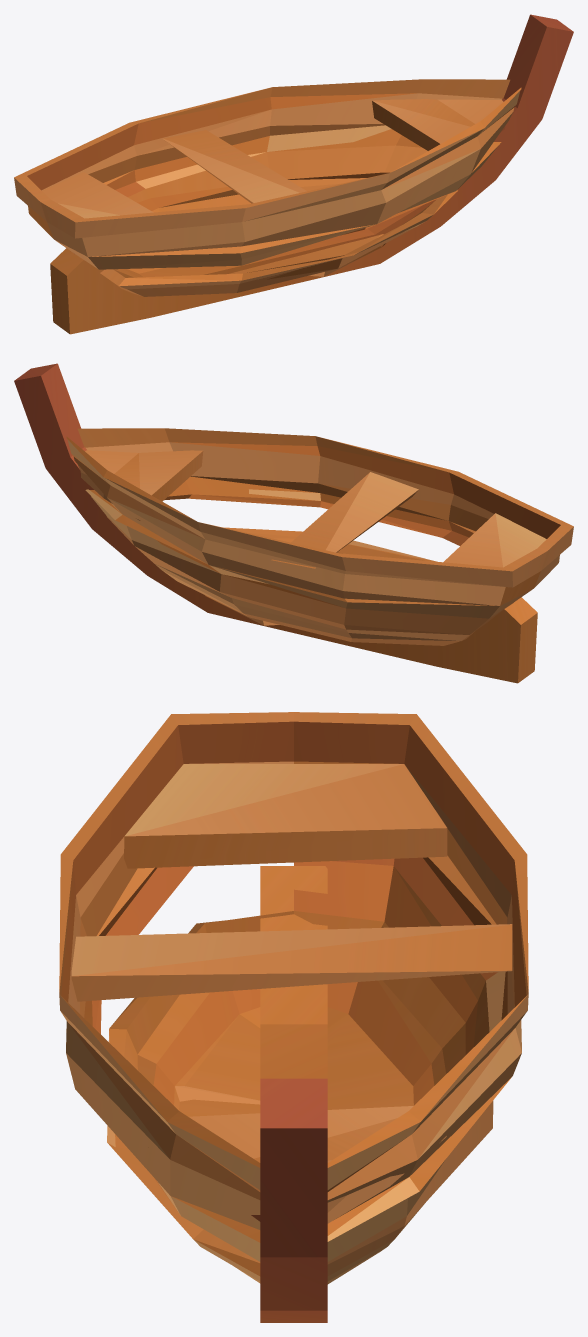
The model's file is GL-Manmade-13-LOD3.fbx.
The picture shows the model from 3 angles, top to bottom: view 1: azimuth 30°, elevation 25°; view 2: azimuth 150°, elevation 25°; view 3: azimuth 270°, elevation 25°; orthographic projection. The views are drawn at different scales.
Visible parts, largest first — view 1: GL_Manmade_13; view 2: GL_Manmade_13; view 3: GL_Manmade_13.
Boxes of the visible parts, left/top/right/bottom form: GL_Manmade_13: left=14, top=14, right=573, bottom=334; GL_Manmade_13: left=14, top=363, right=573, bottom=683; GL_Manmade_13: left=59, top=712, right=528, bottom=1322.
Bounding box in the file's own units: 3.17 × 1.13 × 1.23.
